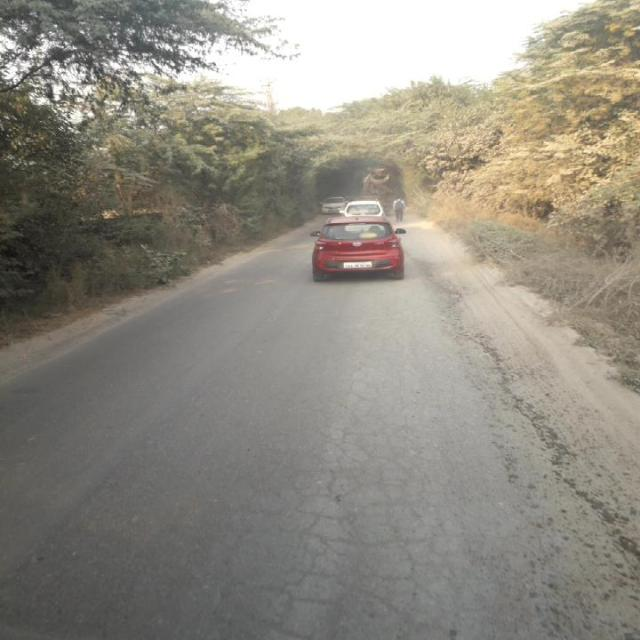crack: (208, 279, 538, 639)
